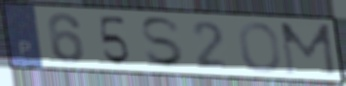2: (191, 20, 231, 70)
5: (96, 14, 132, 66)
6: (45, 11, 85, 64)
M: (278, 21, 339, 77)
O: (236, 21, 283, 74)
S: (138, 16, 187, 70)
